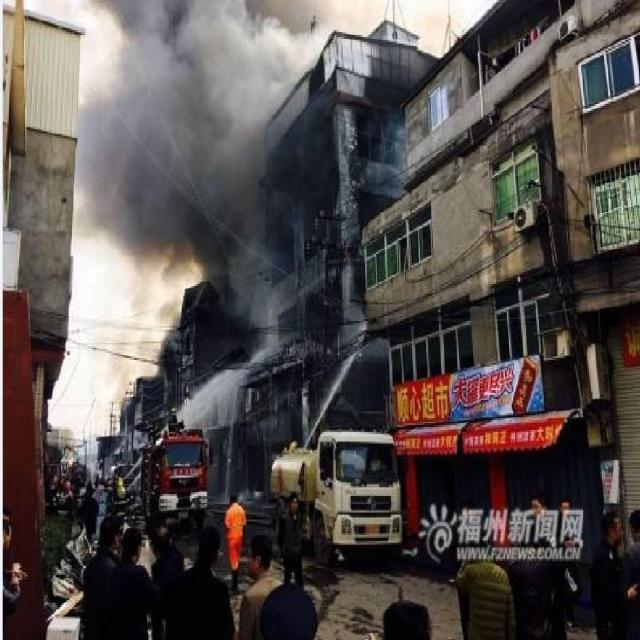Smoke: (72, 1, 366, 346)
